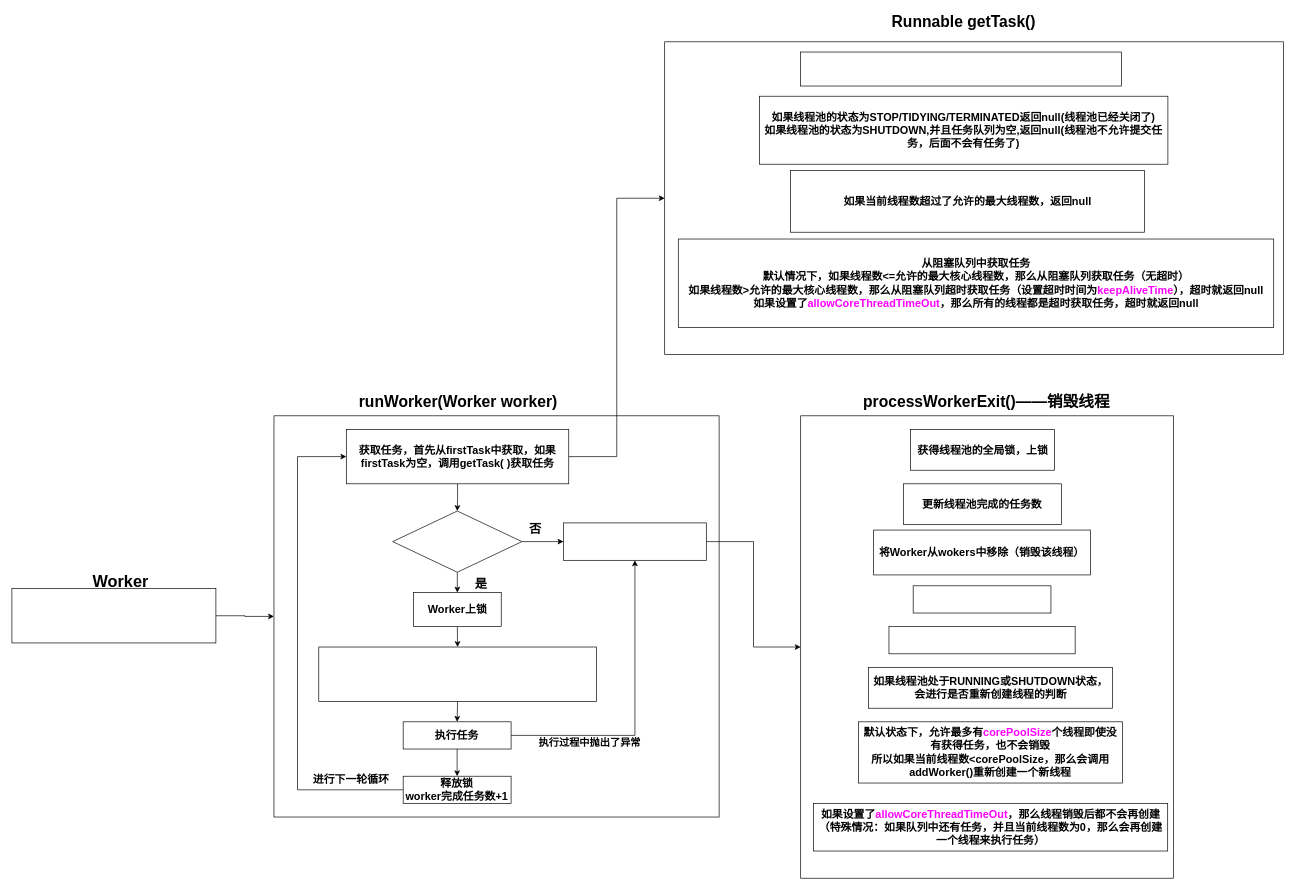
Image size: 1295x890. Some labels were removed from this diagram. Each missing label, with the box of its shape:
run() {runWorker(this);} Worker中的线程执行后续步骤: (11, 588, 216, 643)
如果线程池的状态是STOP/TIDYING/TERMINATED，那么必须确保线程是interrupted，否则确保线程是not interrupted: (318, 646, 596, 701)
是否成功获取任务: (392, 510, 522, 572)
线程会在这里不断循环，直到以下情况返回: (800, 51, 1122, 86)
调用processWokerExit() 销毁线程: (563, 522, 706, 560)
调用tryTerminate()尝试终止线程池: (888, 626, 1075, 654)
释放锁: (912, 585, 1051, 613)
